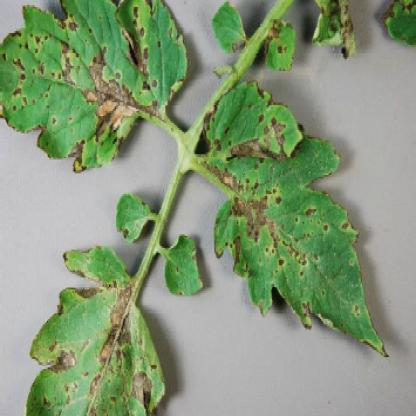tomato septoria leaf spot: (203, 81, 395, 374), (1, 2, 192, 187), (18, 241, 171, 414)
